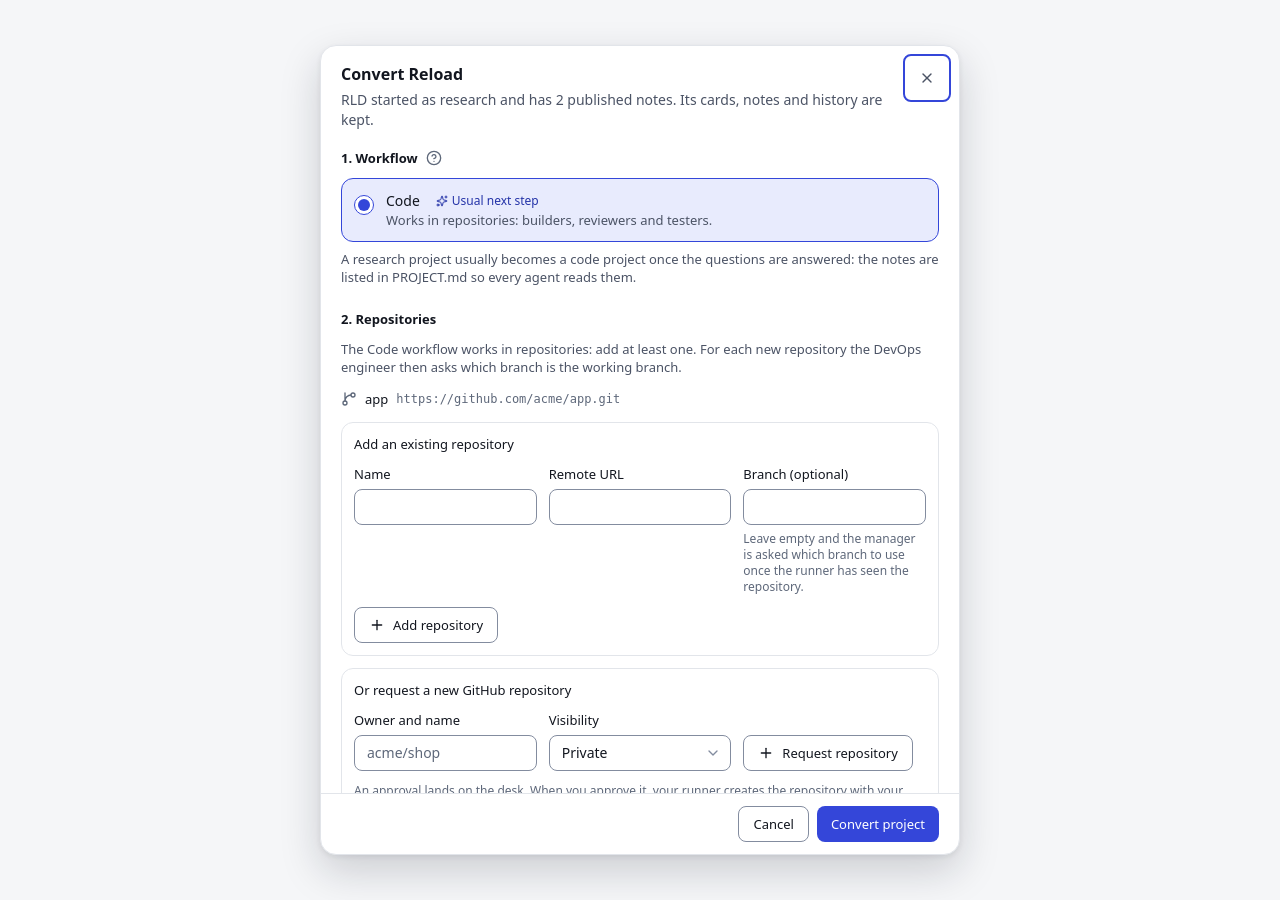
convert dialog › shows a server refusal in the dialog
The image size is (1280, 900).
Click the button with test id "convert-submit" at (878, 824), box x1=817 y1=806 x2=939 y2=842
(page scrolled)
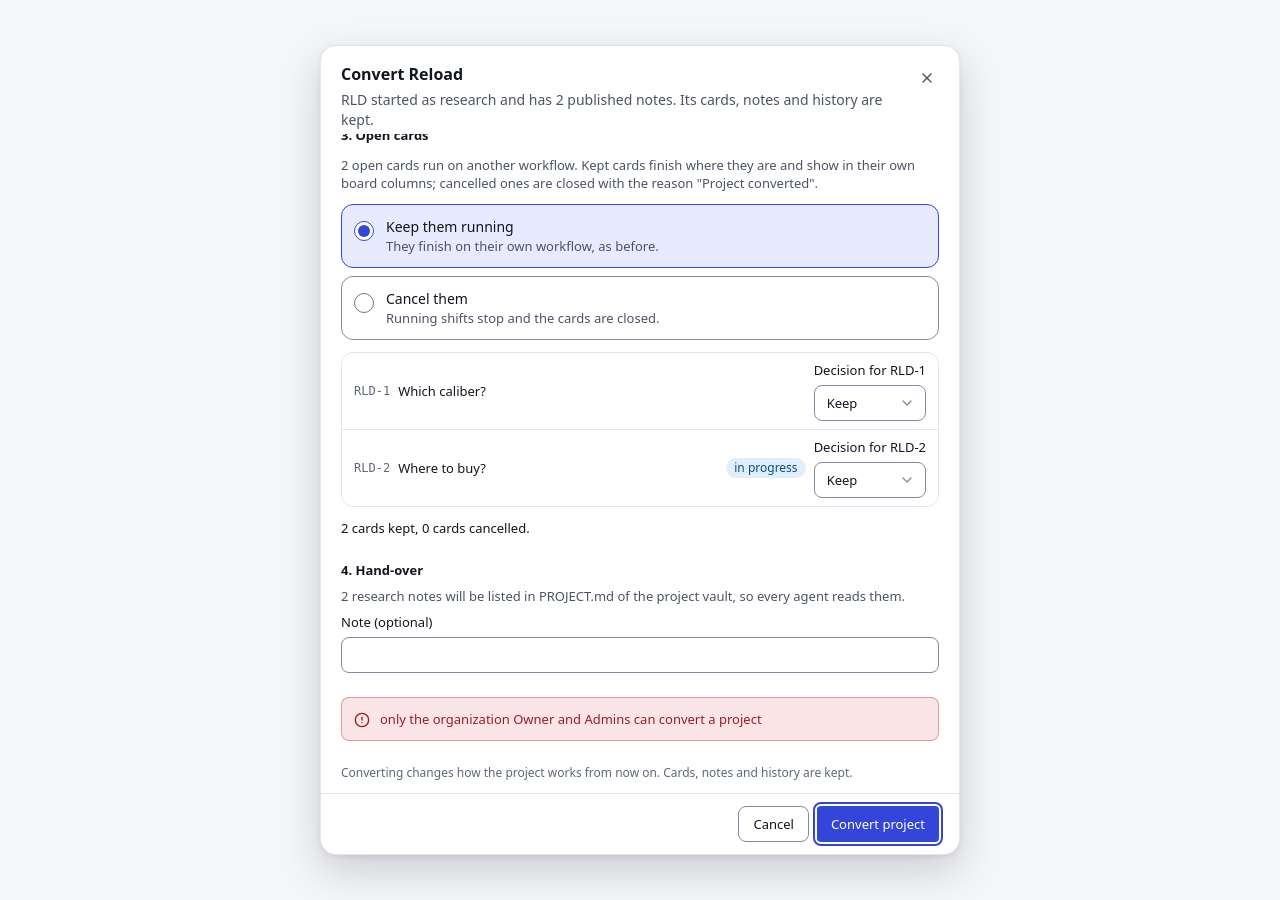
Expected: the text "only the organization Owner and Admins can convert a project" is shown, x1=380 y1=710 x2=762 y2=728
